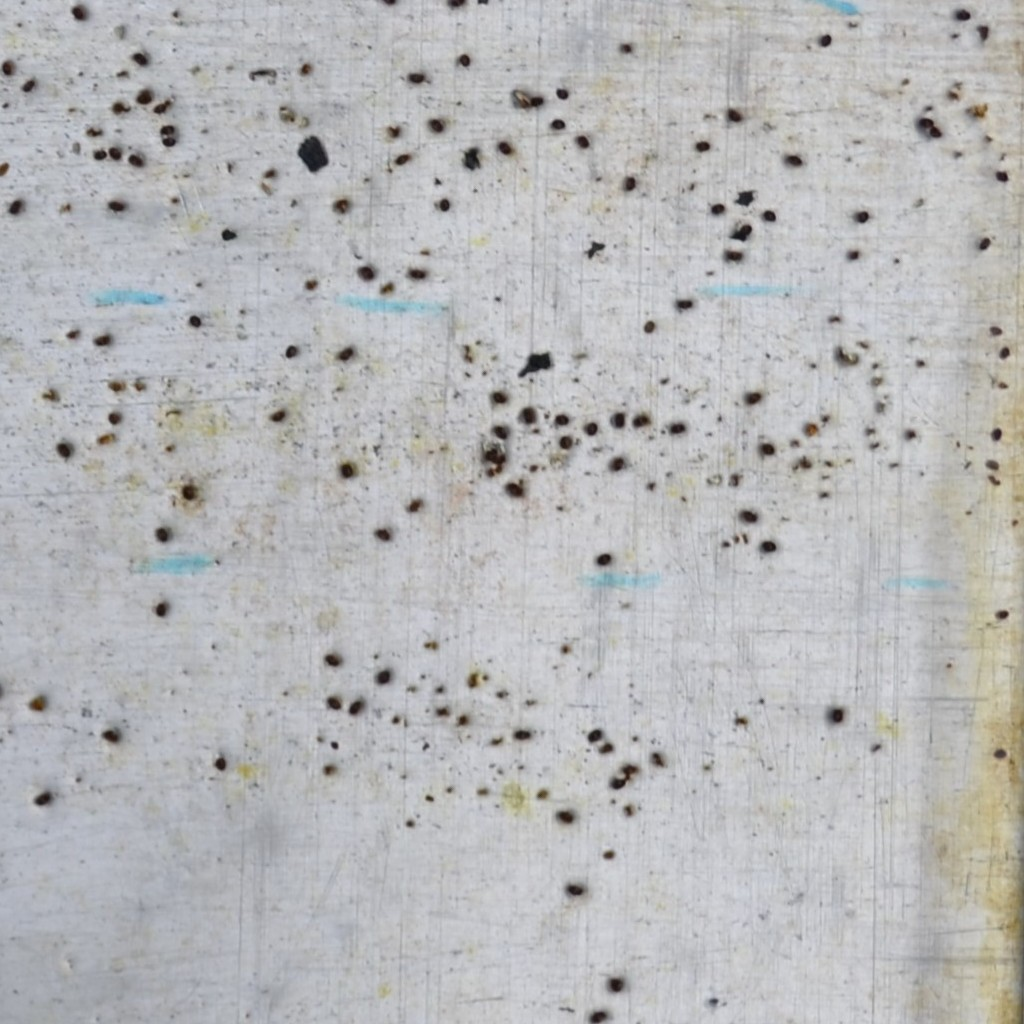varroa: (53, 438, 73, 462), (631, 408, 652, 429), (100, 725, 122, 745), (595, 547, 616, 567), (373, 523, 393, 544), (609, 407, 627, 430), (180, 481, 197, 504), (492, 387, 509, 409), (608, 774, 630, 791), (585, 1008, 611, 1022), (393, 150, 412, 169), (219, 225, 238, 244), (355, 262, 374, 281), (761, 536, 779, 556), (324, 692, 342, 712), (323, 649, 341, 669), (339, 458, 354, 482), (503, 481, 524, 498), (574, 129, 591, 150), (428, 114, 445, 135), (106, 197, 127, 214), (566, 881, 587, 898), (347, 697, 364, 718), (126, 152, 148, 168), (132, 49, 150, 68), (409, 266, 427, 285), (556, 808, 575, 826), (587, 723, 602, 745), (724, 245, 742, 263), (667, 419, 684, 438), (70, 4, 87, 23), (786, 152, 802, 172), (33, 790, 53, 806), (727, 105, 741, 127), (854, 207, 871, 225), (817, 31, 834, 49), (492, 422, 508, 441), (283, 341, 298, 361), (375, 668, 390, 688), (497, 136, 511, 157), (154, 523, 168, 544), (760, 441, 777, 458), (641, 318, 658, 335), (135, 86, 151, 104), (109, 99, 127, 115), (336, 346, 354, 362), (92, 333, 110, 349), (585, 419, 600, 438), (622, 174, 637, 193), (21, 75, 36, 94), (609, 973, 624, 992), (831, 704, 845, 724), (993, 167, 1010, 183), (694, 139, 711, 155), (598, 743, 615, 759), (954, 5, 969, 23), (269, 406, 284, 424), (91, 147, 110, 161), (522, 406, 535, 426), (555, 84, 571, 100), (107, 145, 123, 161), (554, 411, 569, 428), (188, 312, 203, 329), (212, 755, 229, 770), (977, 234, 991, 252), (407, 71, 426, 84), (710, 200, 725, 216), (990, 426, 1005, 442), (1, 58, 13, 78), (731, 228, 748, 242), (743, 507, 757, 524), (549, 118, 566, 132), (8, 197, 22, 214), (748, 389, 761, 407), (159, 136, 178, 148), (107, 408, 122, 423), (740, 220, 754, 236), (676, 295, 692, 309), (610, 455, 626, 469), (438, 198, 452, 214), (620, 763, 638, 775), (559, 434, 573, 449), (917, 115, 933, 128), (458, 52, 472, 66), (763, 207, 775, 223), (160, 122, 176, 134), (156, 601, 167, 618), (929, 125, 942, 139)
